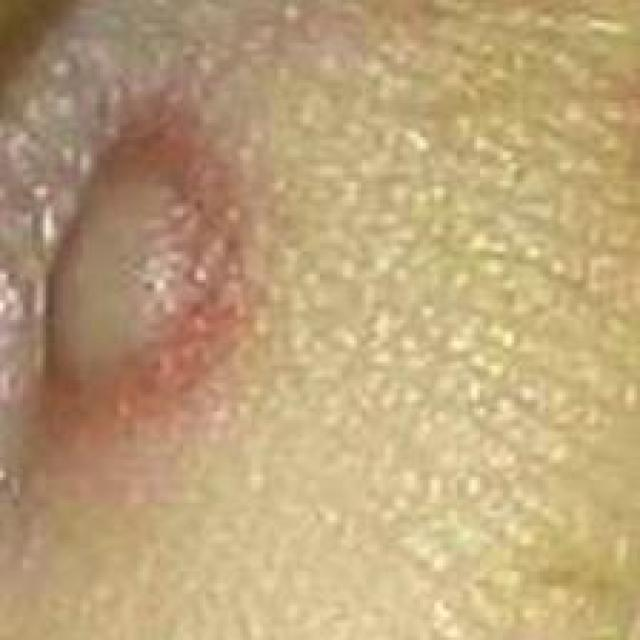monkeypox: (0, 0, 390, 531)
